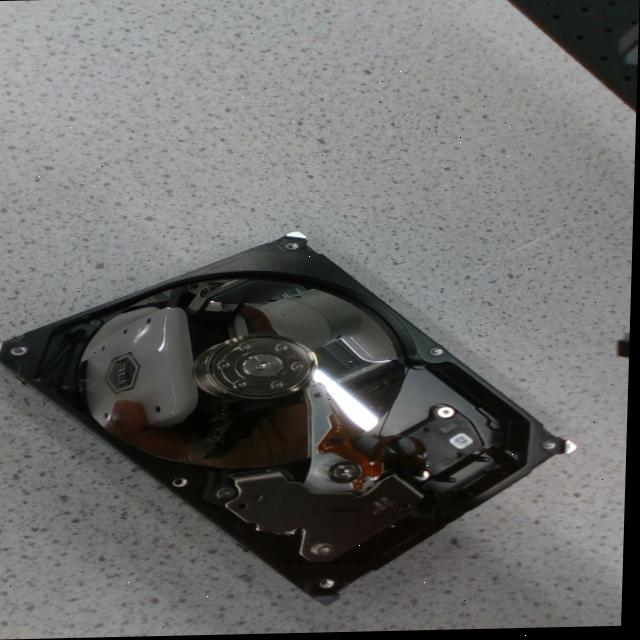actuator arm: (307, 385, 385, 493)
actuator axis: (332, 463, 363, 484)
case: (0, 232, 577, 605)
magnet: (229, 474, 426, 562)
pcb connector: (402, 412, 486, 475)
platter: (83, 275, 403, 468)
platter holder: (196, 334, 316, 399)
screw: (437, 407, 458, 420), (314, 545, 336, 556), (235, 379, 252, 389), (417, 472, 433, 482), (219, 361, 235, 371), (273, 381, 289, 390), (277, 345, 290, 352), (293, 364, 305, 371), (242, 344, 253, 350)
